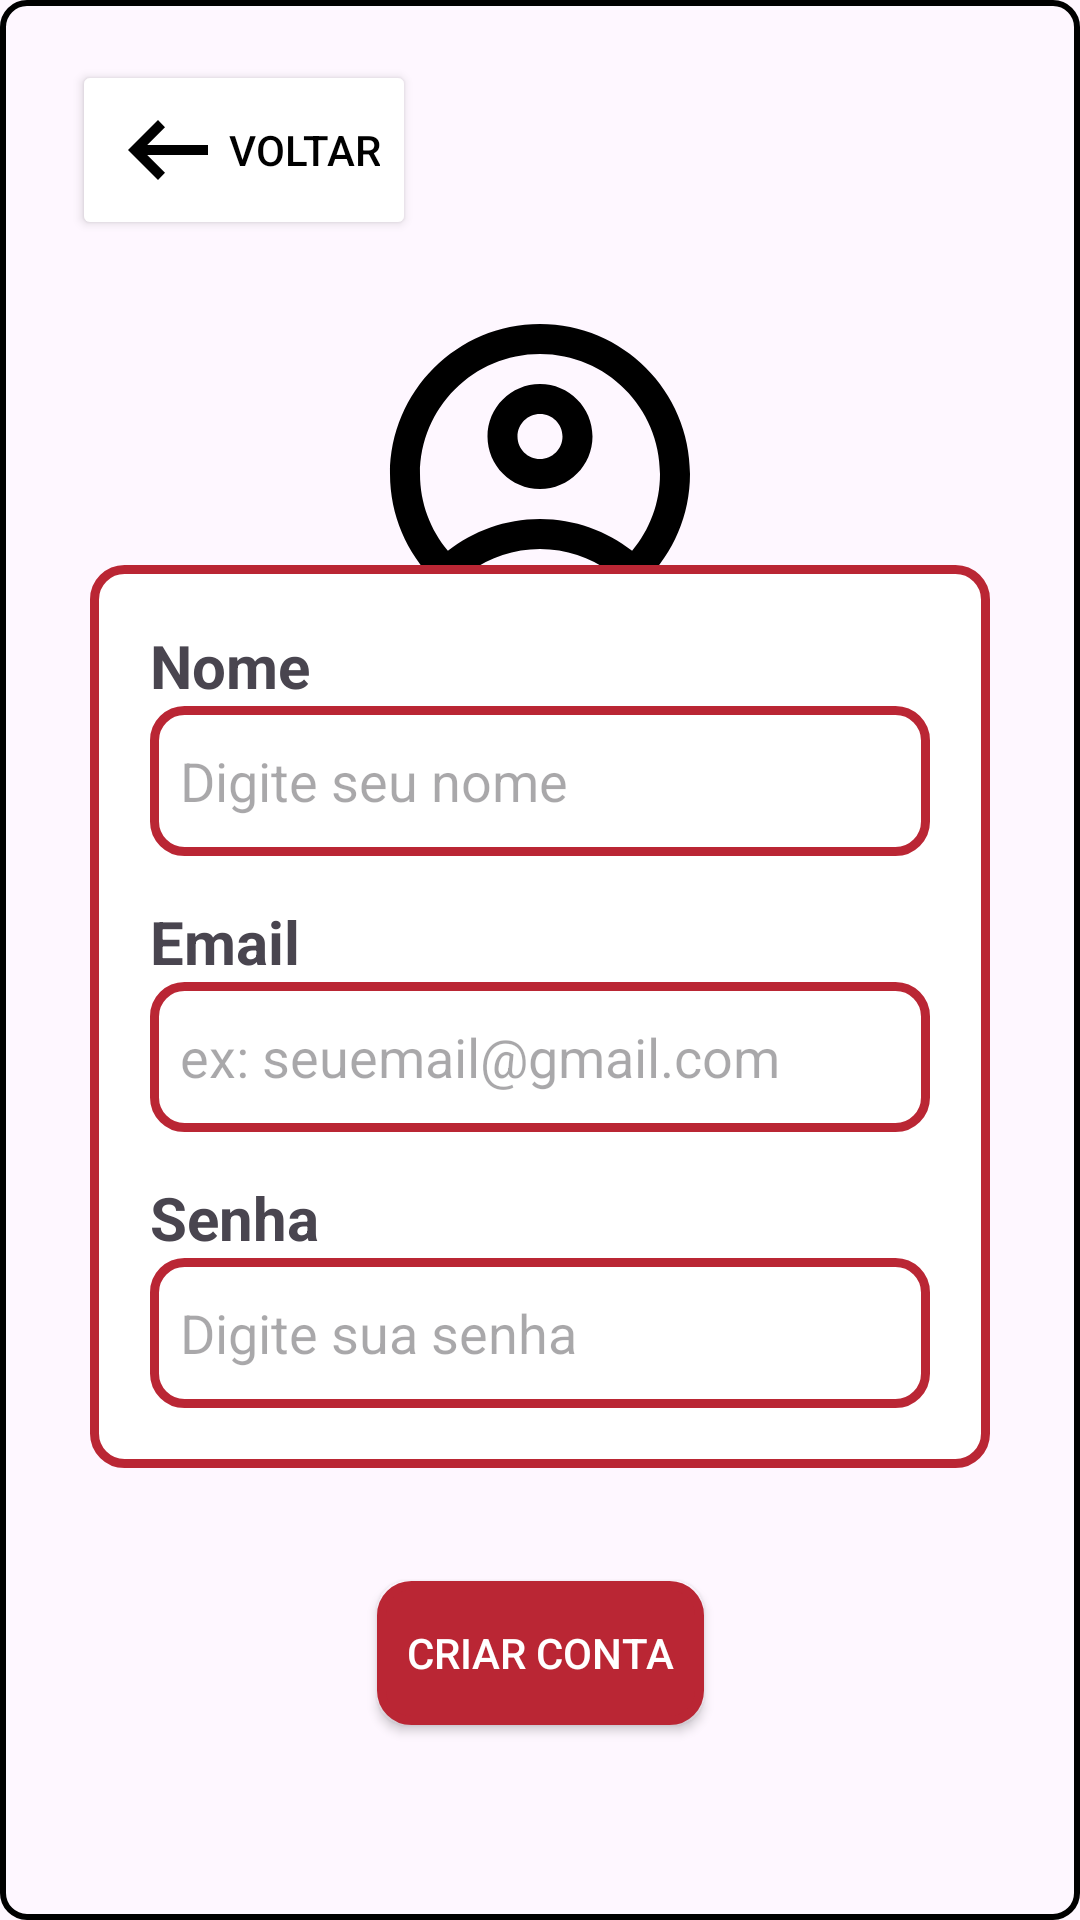

Icon bounding boxes for this 1080px x 1920px phone screenshot, format (x1, y1, x2, y2):
Ícone de perfil: (360, 324, 720, 574)
